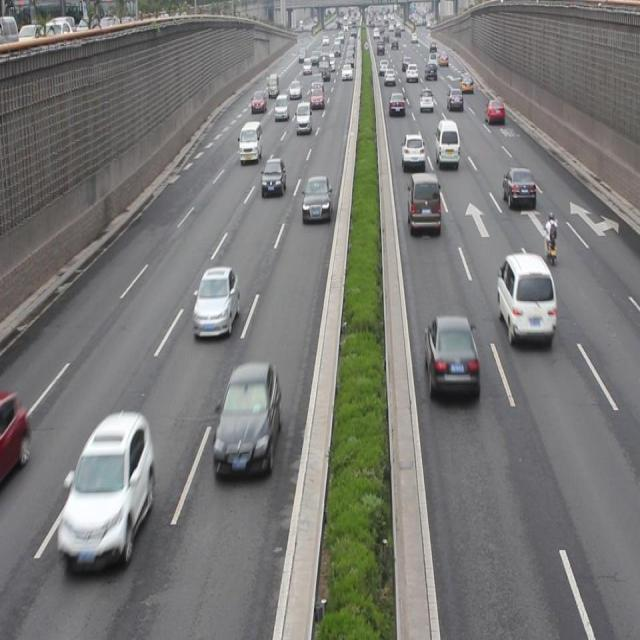car: (58, 411, 153, 567), (211, 361, 281, 477), (424, 312, 480, 400), (193, 265, 239, 338), (502, 166, 535, 210), (302, 174, 330, 224), (260, 155, 285, 196), (401, 130, 426, 170), (484, 97, 504, 127)
truck: (496, 250, 554, 346), (407, 171, 440, 234), (435, 117, 460, 167), (239, 120, 262, 163), (295, 100, 312, 132)
